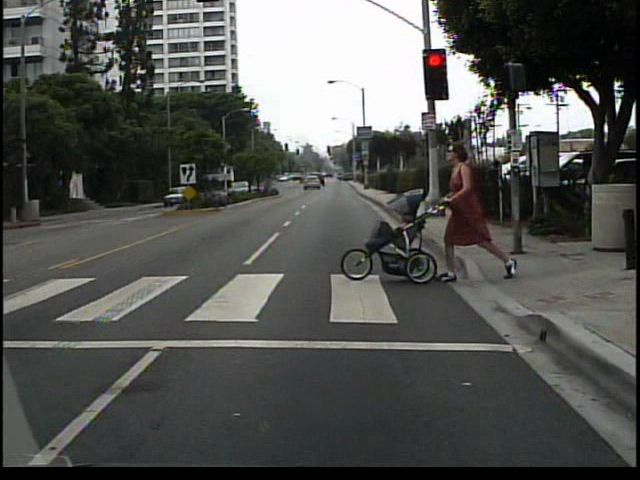person: (440, 137, 507, 282)
